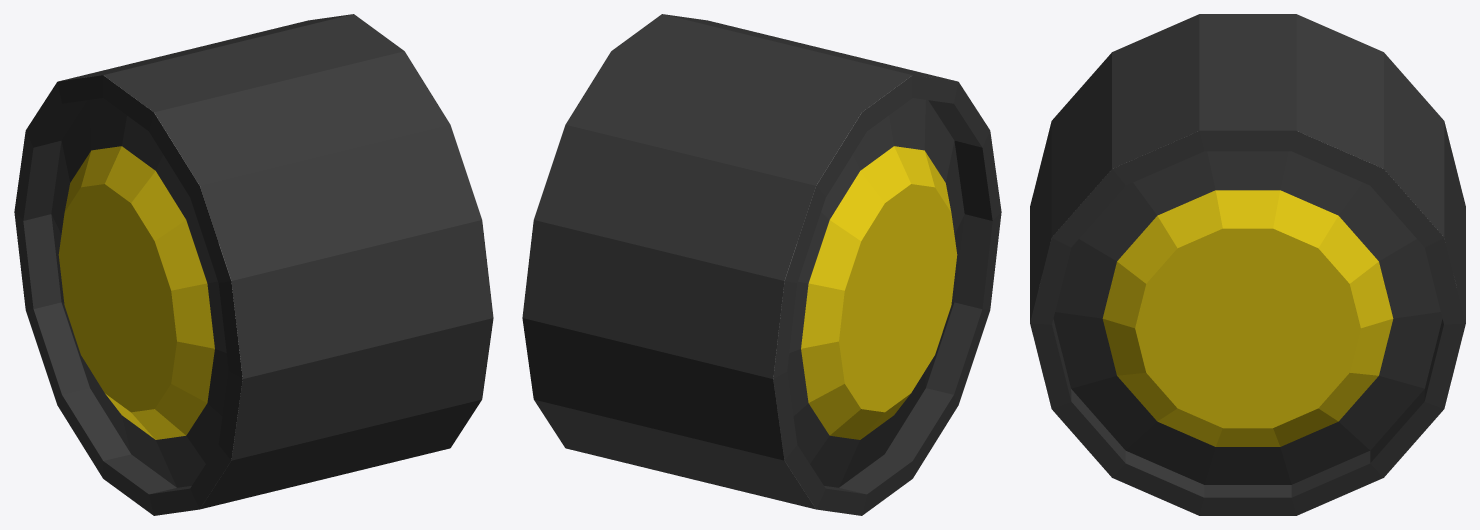
File: prmTrator.fbx
The picture shows the model from 3 angles, left to right: view 1: azimuth 30°, elevation 25°; view 2: azimuth 150°, elevation 25°; view 3: azimuth 270°, elevation 25°; orthographic projection. The views are drawn at different scales.
Visible parts, largest first — view 1: prmTrator; view 2: prmTrator; view 3: prmTrator.
Boxes of the visible parts, x1=… form: prmTrator: x1=14, y1=14, x2=493, y2=515; prmTrator: x1=522, y1=14, x2=1001, y2=515; prmTrator: x1=1030, y1=14, x2=1465, y2=515.
Size of the model in its own units: 154 by 218 by 224.
Materials: 1 (1 with a texture image).
